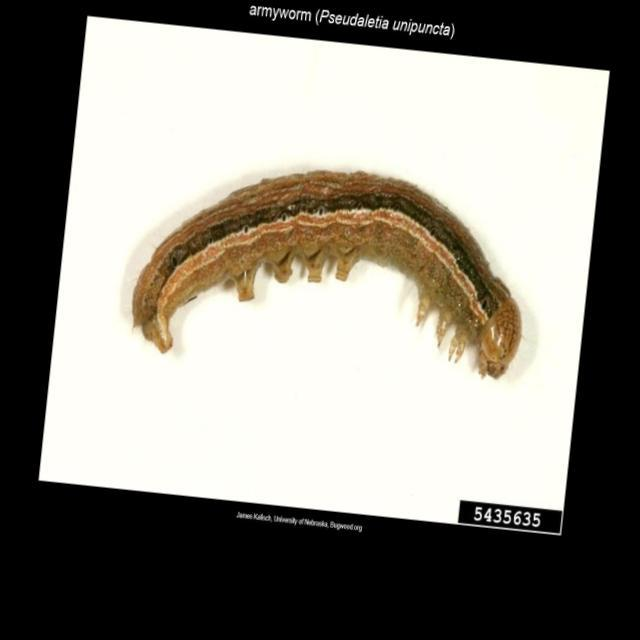Plaga: (107, 124, 548, 427)
